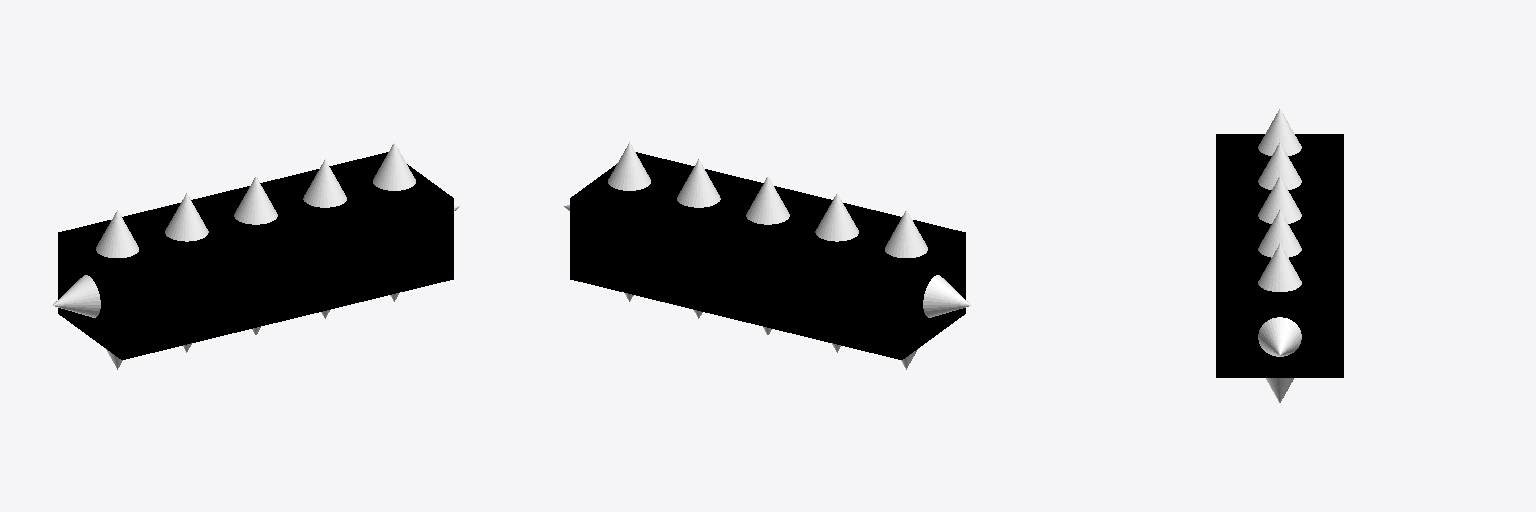
The picture shows the model from 3 angles: view 1: azimuth 30°, elevation 25°; view 2: azimuth 150°, elevation 25°; view 3: azimuth 270°, elevation 25°; orthographic projection.
Parts seen in each view (by area): view 1: 立方体.004; view 2: 立方体.004; view 3: 立方体.004.
Boxes of the visible parts, box(x1,y1,x2,y2) form: 立方体.004: box(52, 142, 459, 369); 立方体.004: box(564, 142, 971, 369); 立方体.004: box(1216, 109, 1343, 402).
Size of the model in its own units: 7.37 by 2.77 by 2.
Materials: 1 (1 with a texture image).